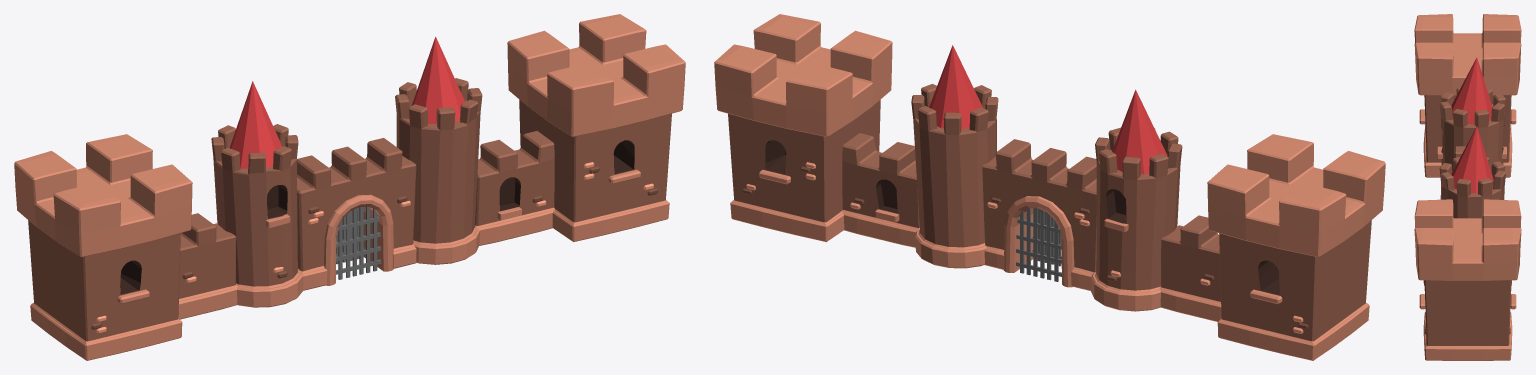
File: KALE.fbx
3 views of the same model, side by side, from view 1: azimuth 30°, elevation 25°; view 2: azimuth 150°, elevation 25°; view 3: azimuth 270°, elevation 25° (orthographic). The views are drawn at different scales.
Parts seen in each view (by area): view 1: KALE; view 2: KALE; view 3: KALE.
Part boxes in pixels (box(x1,y1,x2,y2)): KALE: box(14, 14, 685, 360); KALE: box(714, 14, 1385, 360); KALE: box(1414, 14, 1521, 360).
Bounding box in the file's own units: 4097 × 1328 × 804.
